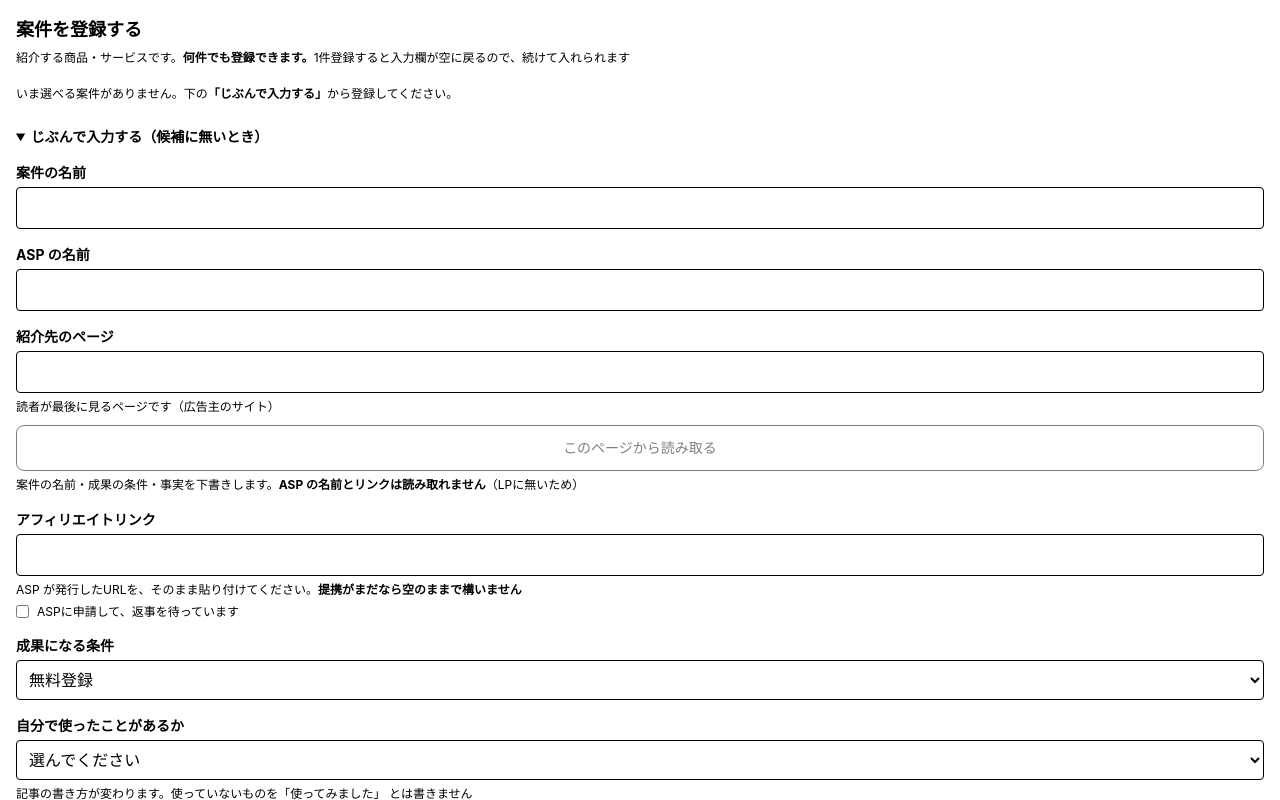
Test: 登録できる › リンクを入れると申請の確認が消える
Expected: the checkbox labelled "ASPに申請して、返事を待っています" is shown, [16, 605, 29, 618]
Type "https://asp.example/click?a=xxxx" into the field labelled "アフィリエイトリンク" at [640, 555], box [16, 534, 1264, 576]
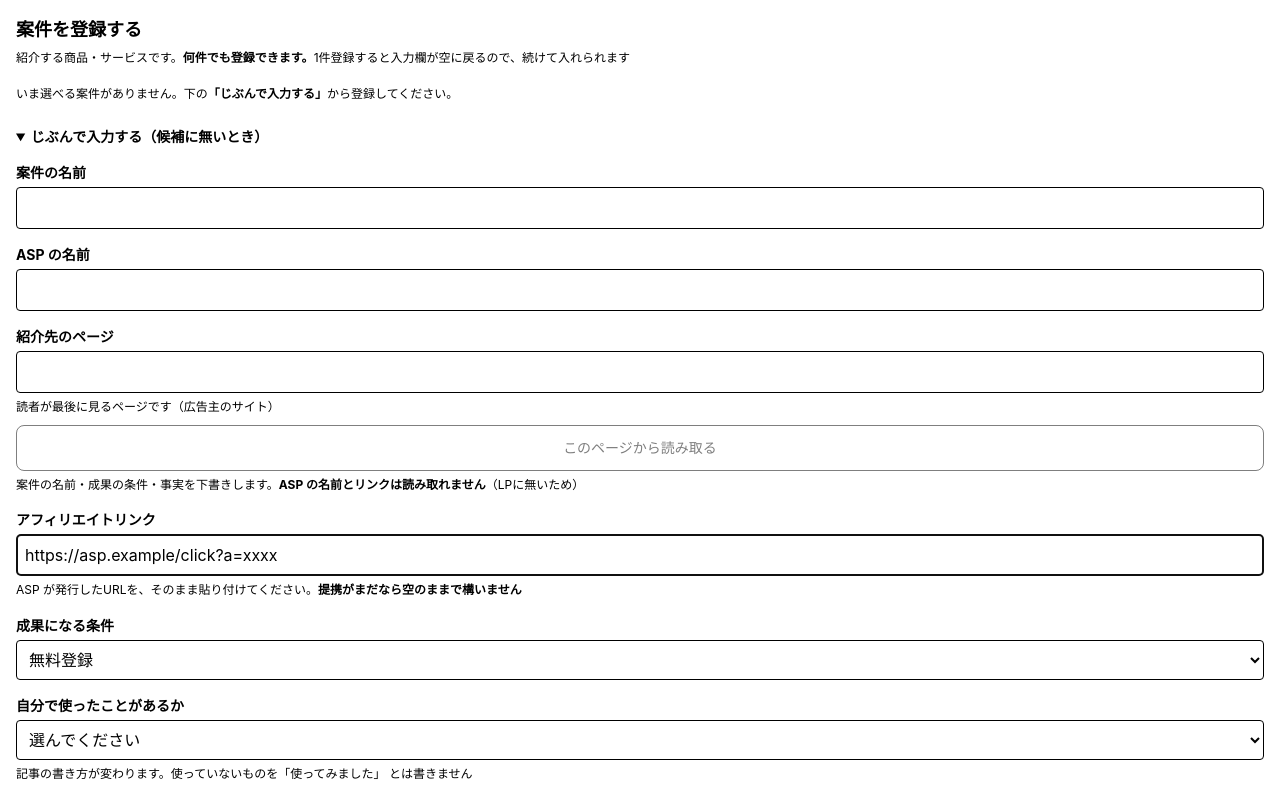
Expected: the label labelled "申請して、返事を待っています" is gone
